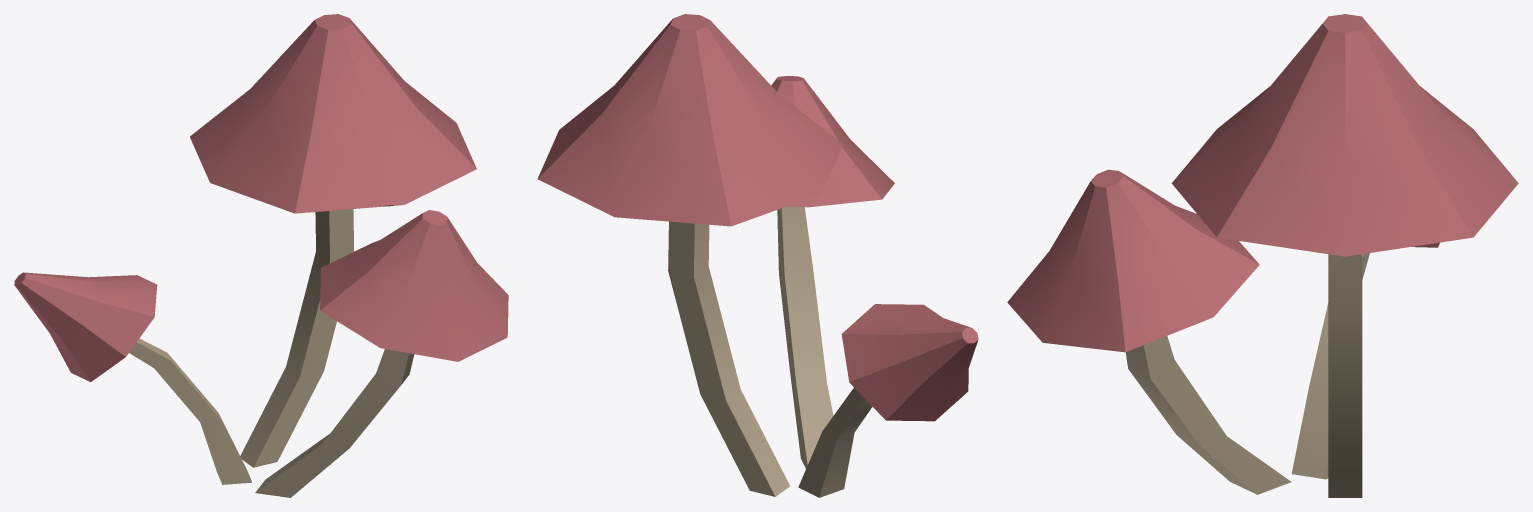
File: Champignons_mini.fbx
3 views of the same model, side by side, from view 1: azimuth 30°, elevation 25°; view 2: azimuth 150°, elevation 25°; view 3: azimuth 270°, elevation 25° (orthographic). The views are drawn at different scales.
Visible parts, largest first — view 1: Champignons_mini; view 2: Champignons_mini; view 3: Champignons_mini.
Part boxes in pixels (box(x1,y1,x2,y2)): Champignons_mini: box(14, 14, 508, 497); Champignons_mini: box(537, 14, 978, 497); Champignons_mini: box(1007, 14, 1518, 497).
Size of the model in its own units: 46.03 by 44.28 by 40.11.
1 material, 1 textured.
